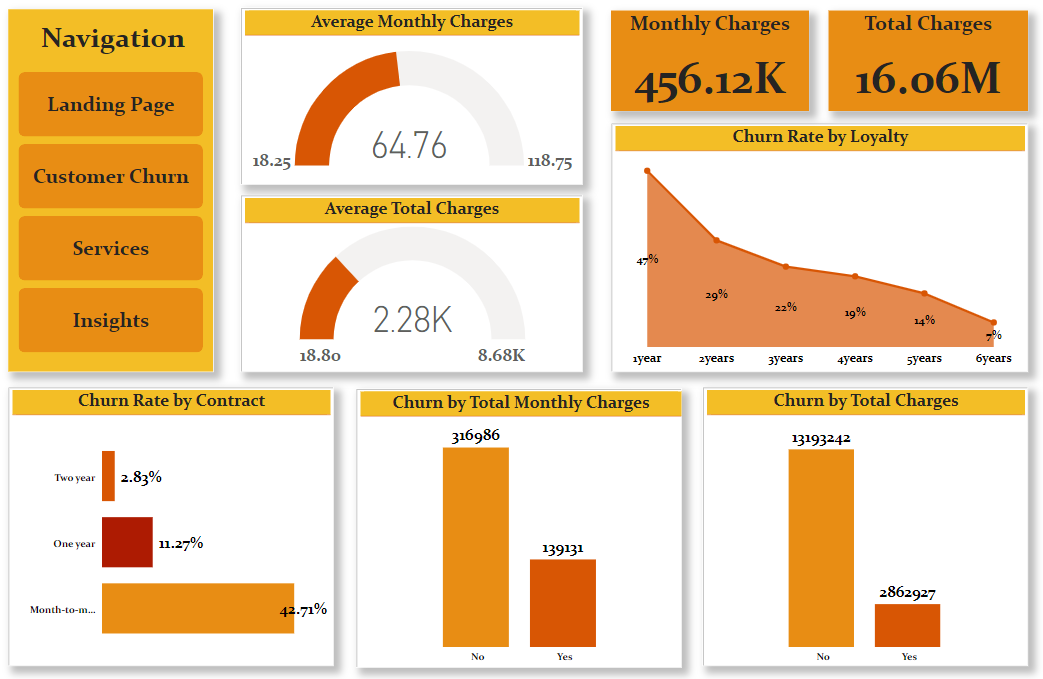

Layout of this report page (visuals, bound fields, positions):
{"tool":"powerbi","page":{"name":"Customer Risk","canvas":[1400,915],"ordinal":2},"visuals":[{"type":"shape","box":[1110,22,266,134],"z":0},{"type":"shape","box":[326,18,456,236],"z":1000},{"type":"shape","box":[942,524,434,372],"z":2000},{"type":"shape","box":[480,526,434,372],"z":3000},{"type":"shape","box":[16,524,434,372],"z":4000},{"type":"shape","box":[16,20,274,484],"z":5000},{"type":"shape","box":[820,172,556,332],"z":6000},{"type":"shape","box":[326,268,456,236],"z":7000},{"type":"clusteredColumnChart","title":"Churn by Total Charges","fields":{"Category":["Churn.Churn"],"Y":["Dax Measure.Sum of Total Charges"]},"box":[948,528,424,372],"z":8000},{"type":"barChart","title":"Churn Rate by Contract","fields":{"Category":["02 Churn-Dataset.Contract"],"Y":["Dax Measure.Churn Rate"]},"box":[22,528,424,368],"z":9000},{"type":"columnChart","title":" Churn by Total Monthly Charges ","fields":{"Category":["Churn.Churn"],"Y":["Dax Measure.Total Monthly Charges"]},"box":[486,530,428,370],"z":10000},{"type":"stackedAreaChart","title":"Churn Rate by Loyalty","fields":{"Category":["02 Churn-Dataset.Loyalty"],"Y":["Dax Measure.Churn Rate"]},"box":[826,176,546,328],"z":11000},{"type":"gauge","title":"Average Total Charges","fields":{"Y":["Dax Measure.Average of Total Charges"],"MaxValue":["Max(02 Churn-Dataset.TotalCharges)"],"MinValue":["Min(02 Churn-Dataset.TotalCharges)"]},"box":[332,272,446,232],"z":12000},{"type":"gauge","title":"Average Monthly Charges","fields":{"Y":["Dax Measure.Average Monthly Charges"],"MinValue":["Min(02 Churn-Dataset.MonthlyCharges)"],"MaxValue":["Max(02 Churn-Dataset.MonthlyCharges)"]},"box":[332,22,446,232],"z":13000},{"type":"shape","box":[820,22,264,134],"z":14000},{"type":"card","title":"Total Charges","fields":{"Values":["Dax Measure.Sum of Total Charges"]},"box":[1110,22,266,134],"z":15000},{"type":"card","title":"Monthly Charges","fields":{"Values":["Dax Measure.Total Monthly Charges"]},"box":[820,22,264,134],"z":16000},{"type":"textbox","box":[6,30,300,64],"z":17000},{"type":"pageNavigator","box":[30,104,246,376],"z":18000}]}

Visuals, with their boxes in screenshot pixels (x1, y1, x2, y2), scaled from the page's 1400x915 canvas onto the 1043x679 screenshot:
shape: 827, 16, 1025, 116
shape: 243, 13, 583, 188
shape: 702, 389, 1025, 665
shape: 358, 390, 681, 666
shape: 12, 389, 335, 665
shape: 12, 15, 216, 374
shape: 611, 128, 1025, 374
shape: 243, 199, 583, 374
"Churn by Total Charges" clusteredColumnChart: 706, 392, 1022, 668
"Churn Rate by Contract" barChart: 16, 392, 332, 665
" Churn by Total Monthly Charges " columnChart: 362, 393, 681, 668
"Churn Rate by Loyalty" stackedAreaChart: 615, 131, 1022, 374
"Average Total Charges" gauge: 247, 202, 580, 374
"Average Monthly Charges" gauge: 247, 16, 580, 188
shape: 611, 16, 808, 116
"Total Charges" card: 827, 16, 1025, 116
"Monthly Charges" card: 611, 16, 808, 116
textbox: 4, 22, 228, 70
pageNavigator: 22, 77, 206, 356
